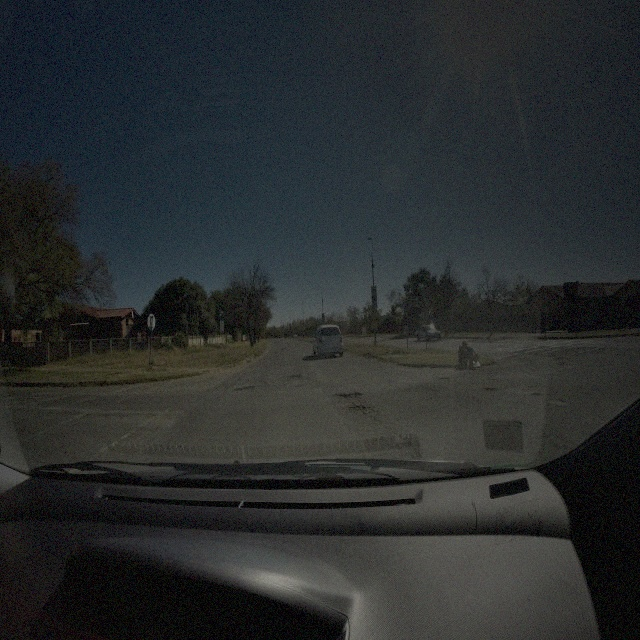pothole: (334, 391, 363, 400), (232, 383, 255, 393), (350, 404, 370, 415), (510, 417, 522, 428), (484, 387, 498, 394), (530, 392, 545, 397), (288, 374, 302, 378), (439, 376, 449, 380)
